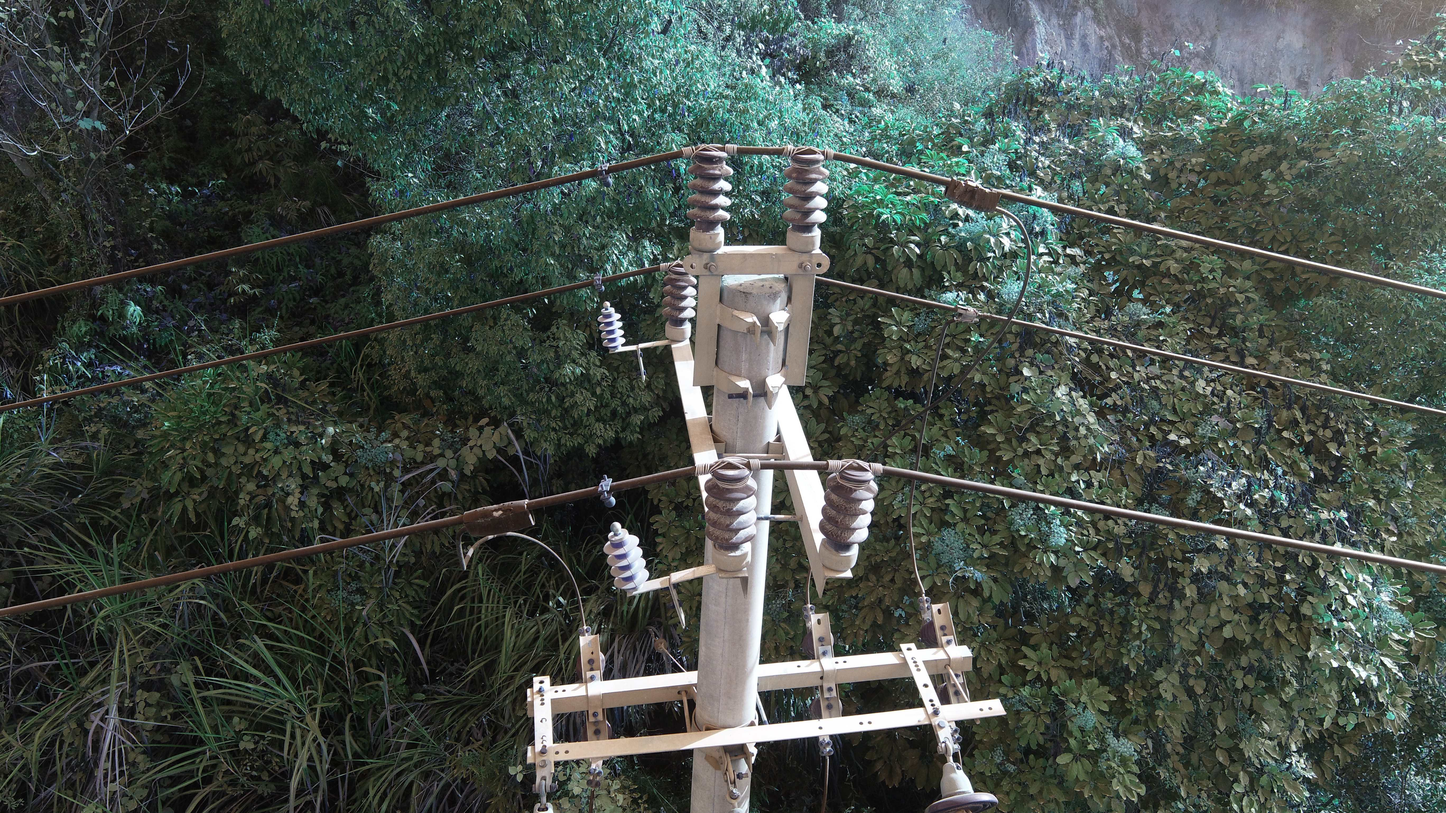severe_soiling_no_discharge_whole: (816, 455, 882, 573), (697, 455, 762, 572), (683, 142, 739, 251), (780, 147, 833, 252), (660, 261, 698, 342)
